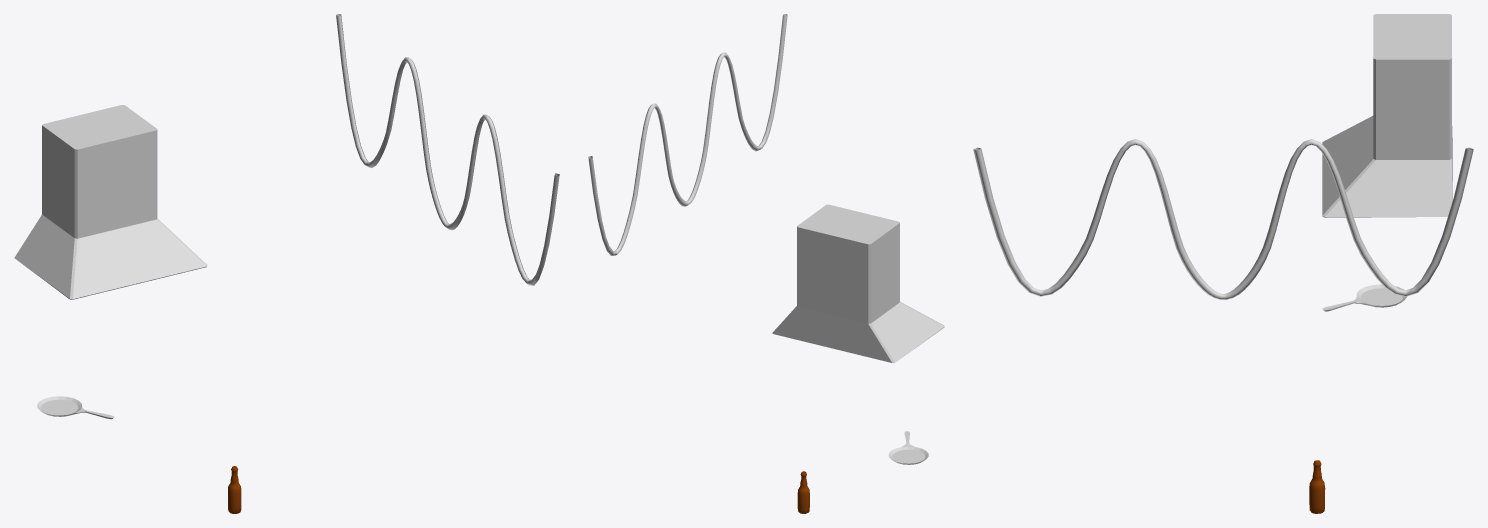
The model's file is Shooting Range.fbx.
3 views of the same model, side by side, from view 1: azimuth 30°, elevation 25°; view 2: azimuth 150°, elevation 25°; view 3: azimuth 270°, elevation 25° (orthographic). The views are drawn at different scales.
Visible parts, largest first — view 1: Cube.006, NurbsPath, Cylinder.011; view 2: Cube.006, NurbsPath, Cylinder.011, Cylinder.001; view 3: Cube.006, NurbsPath, Cylinder.011, Cylinder.001.
Boxes of the visible parts, left/top/right/bottom form: Cube.006: left=14, top=105, right=207, bottom=299; NurbsPath: left=336, top=14, right=559, bottom=285; Cylinder.011: left=37, top=396, right=113, bottom=419; Cube.006: left=772, top=204, right=944, bottom=362; NurbsPath: left=588, top=14, right=787, bottom=255; Cylinder.011: left=888, top=431, right=928, bottom=464; Cylinder.001: left=797, top=471, right=809, bottom=513; Cube.006: left=1322, top=14, right=1452, bottom=217; NurbsPath: left=973, top=139, right=1473, bottom=299; Cylinder.011: left=1322, top=284, right=1407, bottom=311; Cylinder.001: left=1309, top=460, right=1325, bottom=513.
Bounding box in the file's own units: 5431 × 6323 × 6141.
